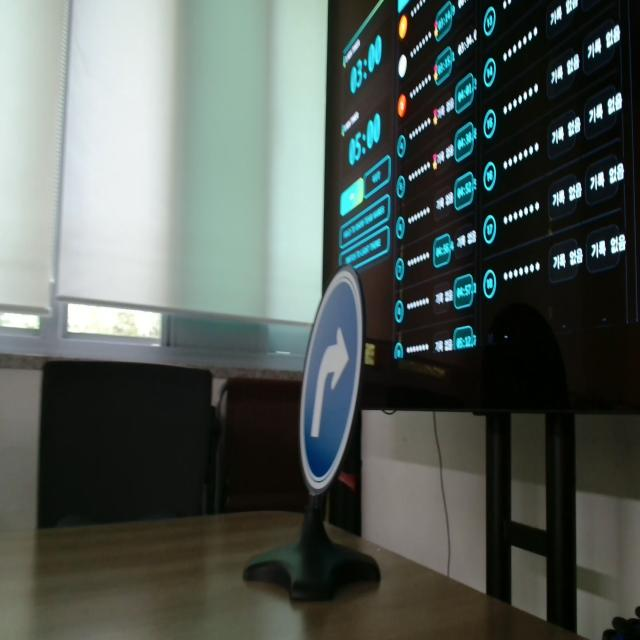right_dierection: (290, 251, 368, 499)
